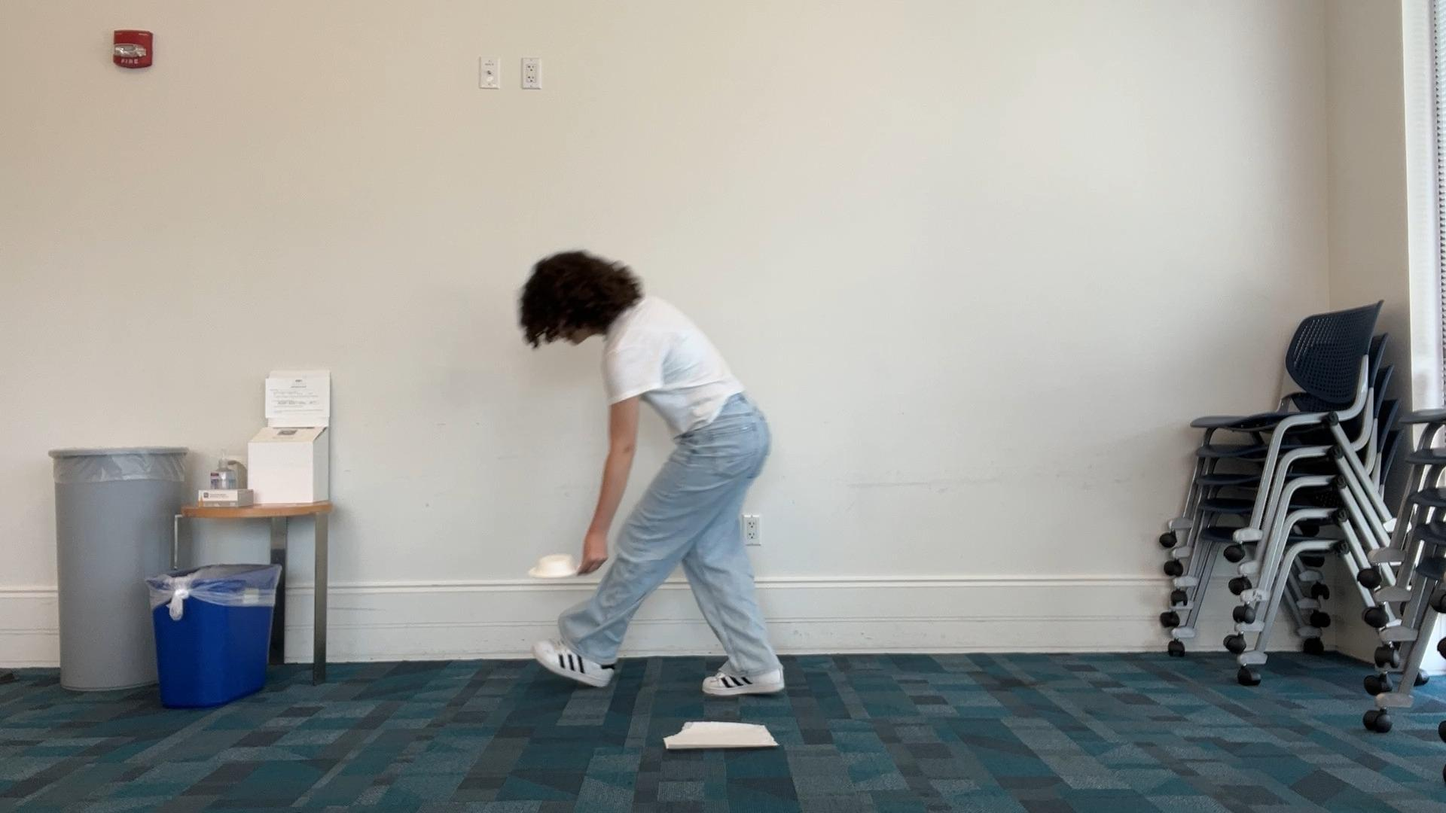Trash: (650, 701, 791, 770)
